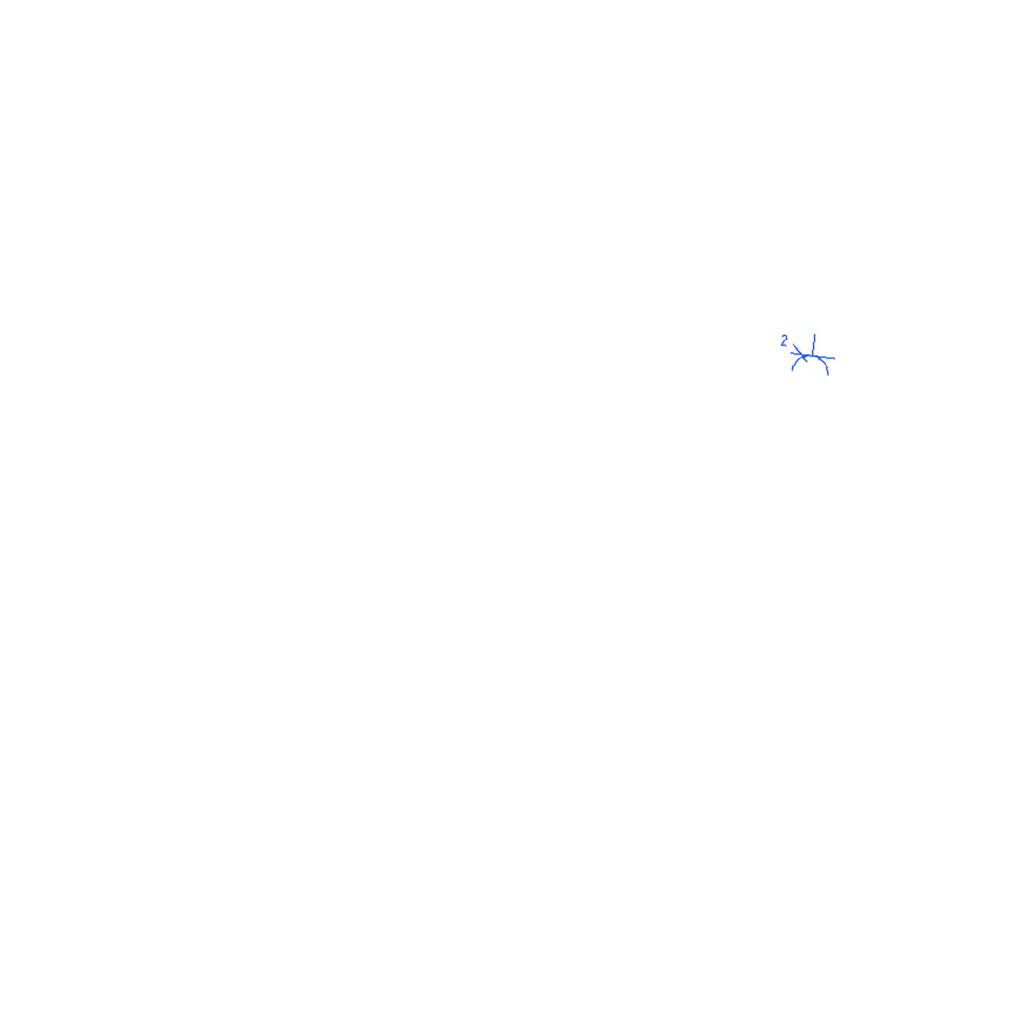Schukosteckdose_mehrfach: (773, 328, 839, 380)
